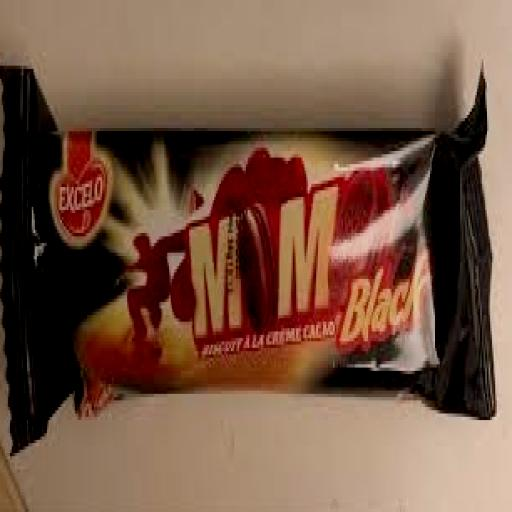MOMO: (0, 29, 502, 453)
